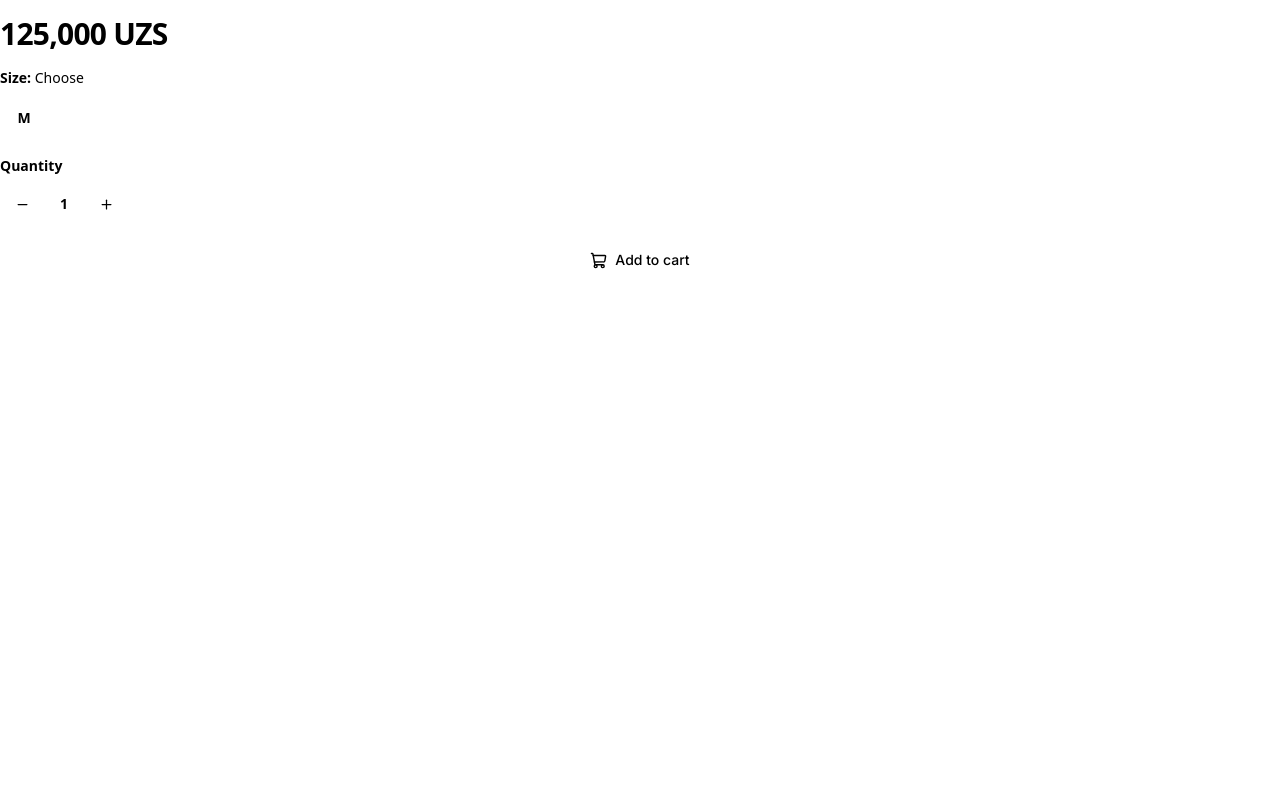
Test case: AddToCart availability › offers login and registration with the selected SKU and quantity carried through returnTo
Expected: the button "Add to cart" is disabled, [0, 238, 1279, 282]
What coordinates should you click on to do the following:
click the button named "Size: M, Available to order"
I would click on:
 (24, 118)
Its box is [0, 96, 48, 140].
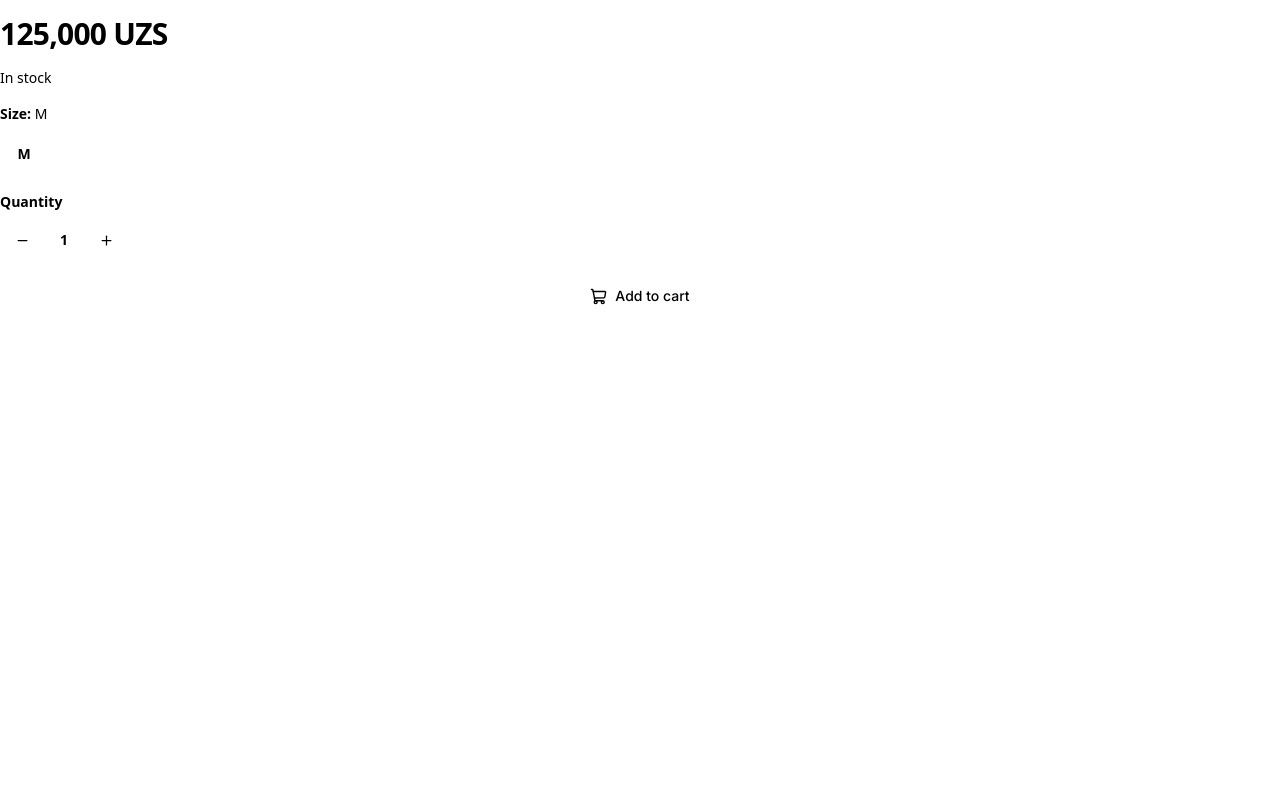
Now the button "Add to cart" is enabled
What coordinates should you click on to do the following:
click the button "Add to cart"
I would click on:
 (640, 296)
Its box is [0, 274, 1279, 318].
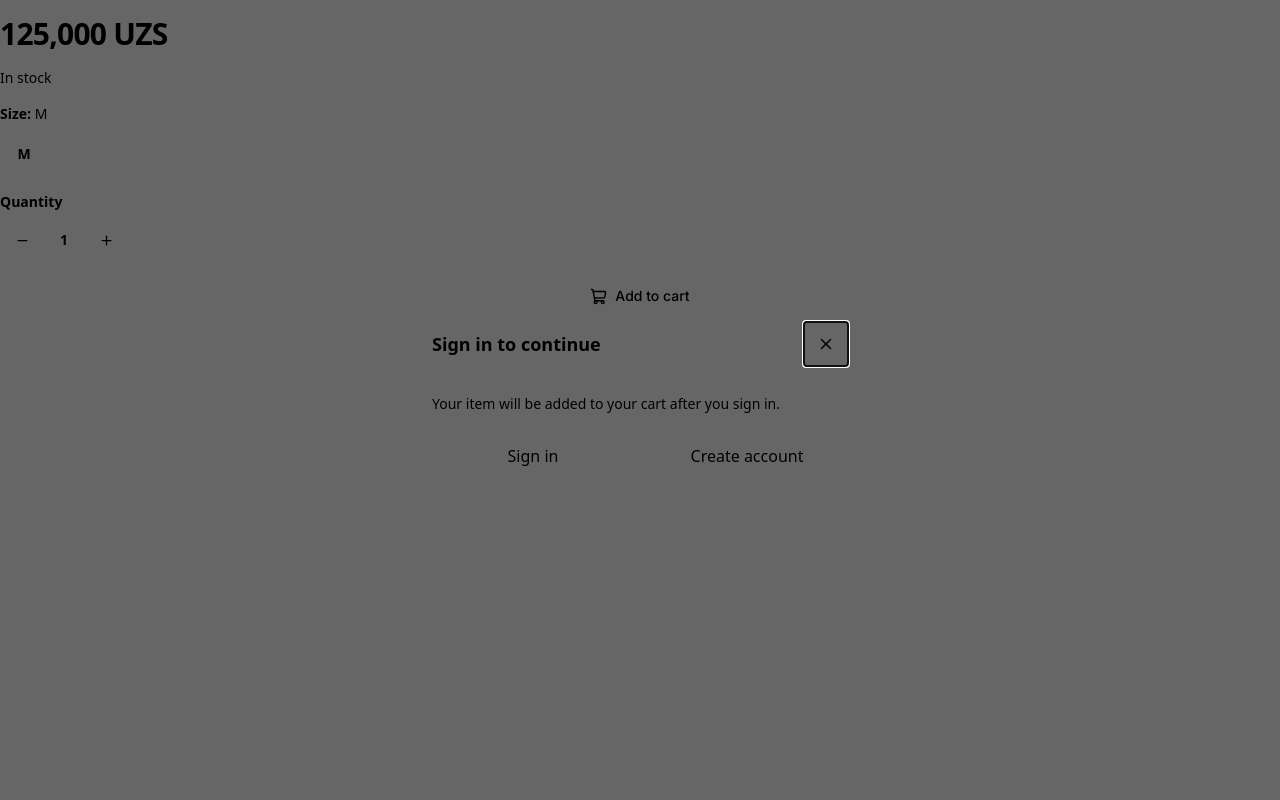
Now the dialog "Sign in to continue" is shown, box [416, 306, 864, 494]
